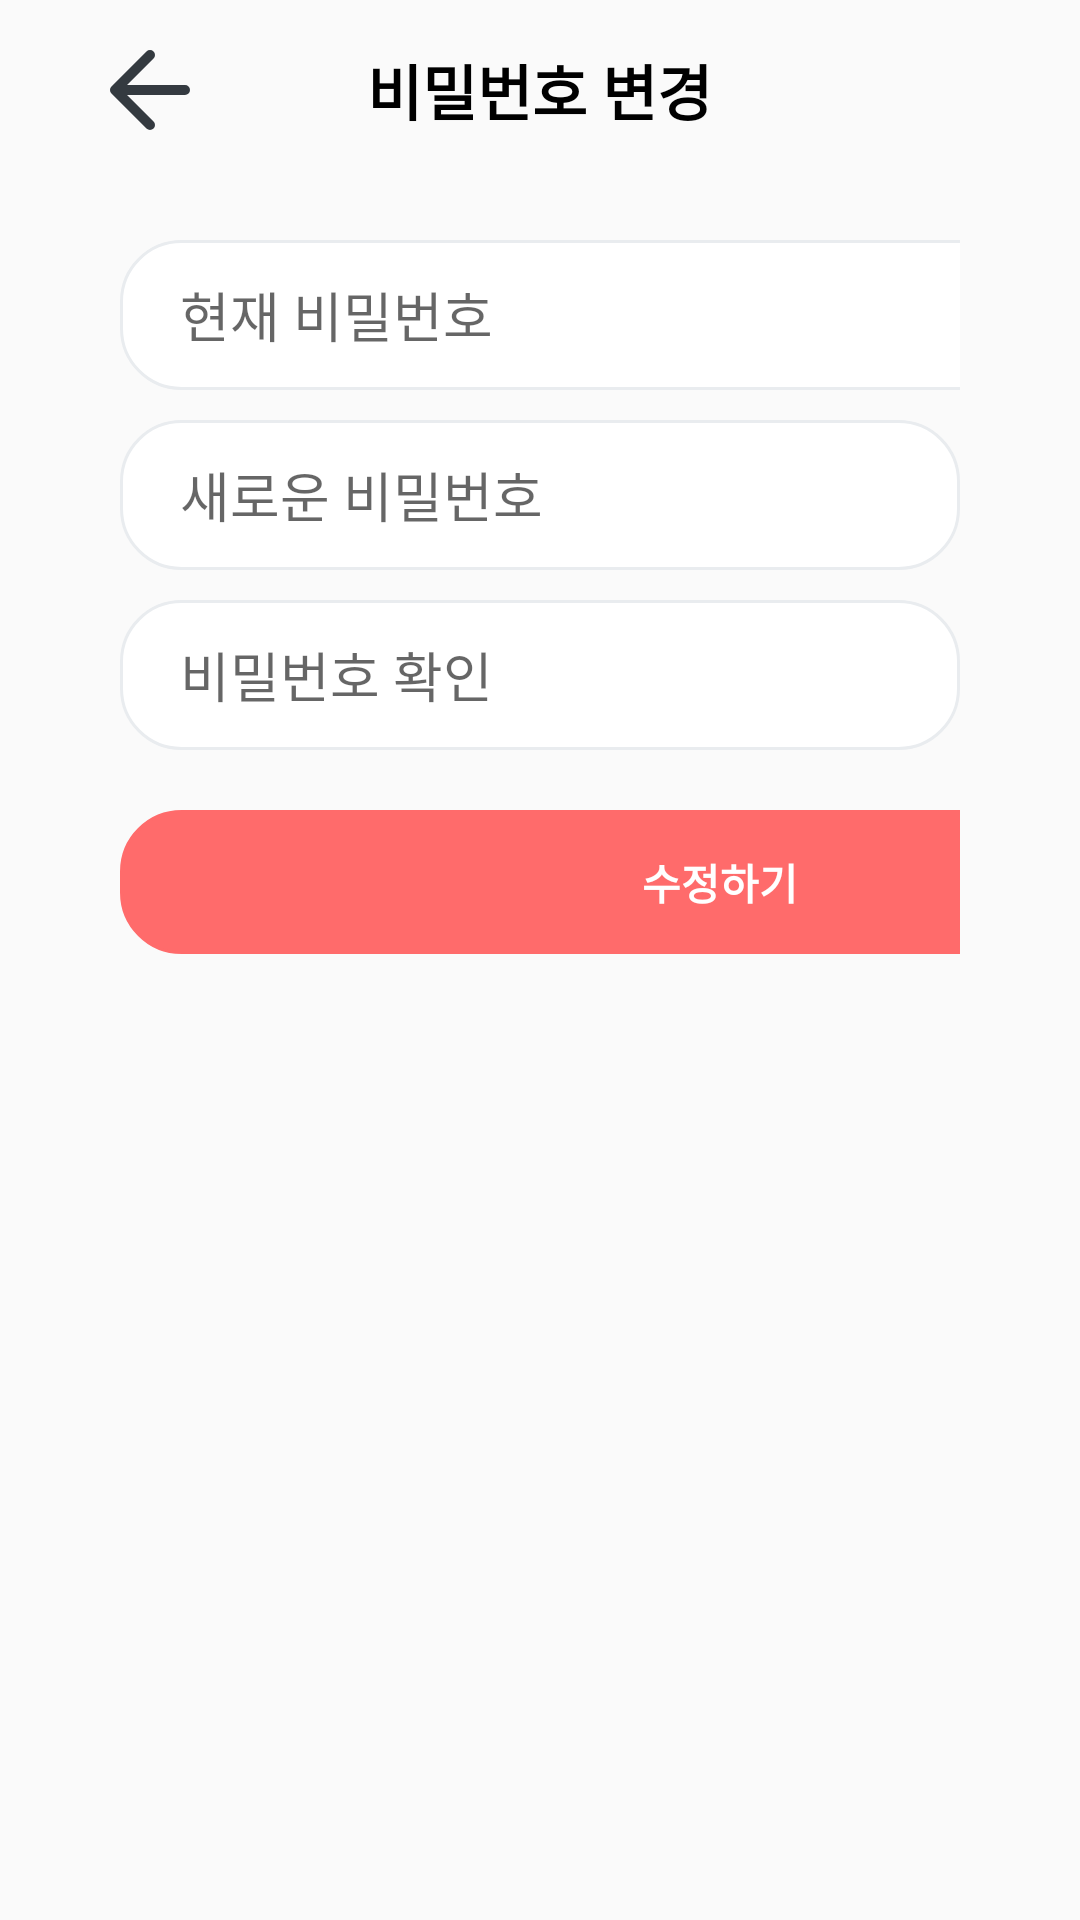

Icon bounding boxes for this 1080w x 1920h phone screenshot, format (x1, y1, x2, y2):
left: (110, 50, 190, 130)
